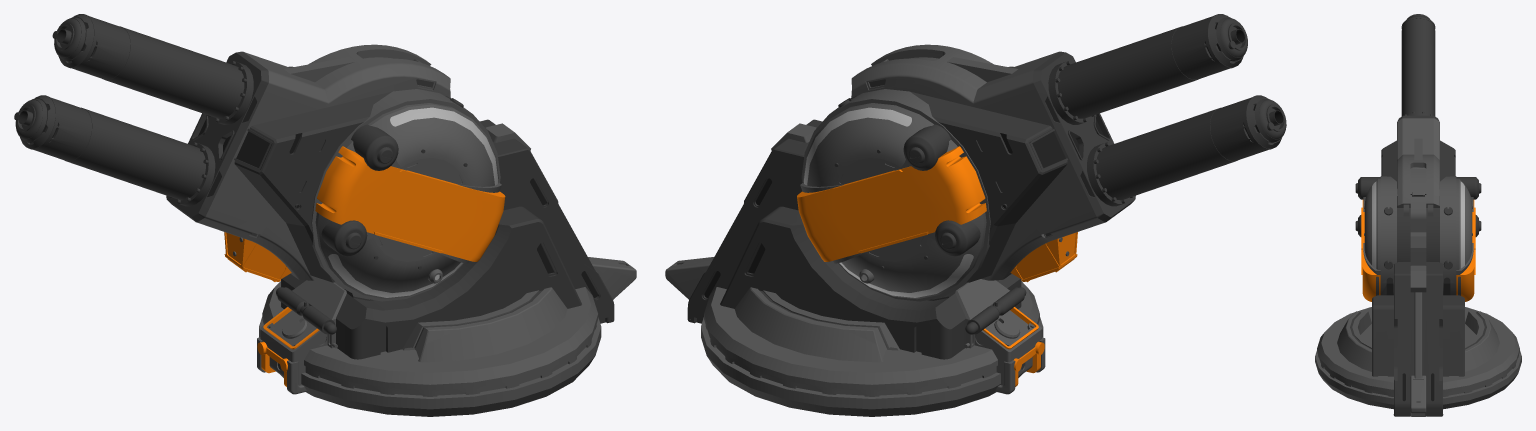
File: launcher.obj
3 views of the same model, side by side, from view 1: azimuth 30°, elevation 25°; view 2: azimuth 150°, elevation 25°; view 3: azimuth 270°, elevation 25° (orthographic). The views are drawn at different scales.
Parts seen in each view (by area): view 1: Mesh25 Group21 Group1 Model, Mesh98 Group59 Group1 Model, Mesh22 Group20 Group1 Model, Mesh11 Group3 Group1 Model, Mesh17 Group12 Group1 Model, Mesh97 Component_1_2 Group59 Group1 Model, Mesh83 Component_1_1 Group59 Group1 Model, Mesh60 Group49 Group1 Model, Mesh23 Group22 Group21 Group1 Model, Mesh42 Group36 Group1 Model, Mesh36 Group31 Group1 Model, Mesh10 Group3 Group1 Model (+5 smaller); view 2: Mesh25 Group21 Group1 Model, Mesh98 Group59 Group1 Model, Mesh63 Group52 Group1 Model, Mesh13 Group3 Group1 Model, Mesh59 Group46 Group1 Model, Mesh97 Component_1_2 Group59 Group1 Model, Mesh83 Component_1_1 Group59 Group1 Model, Mesh37 Group35 Group1 Model, Mesh24 Group23 Group21 Group1 Model, Mesh42 Group36 Group1 Model, Mesh36 Group31 Group1 Model, Mesh10 Group3 Group1 Model (+5 smaller); view 3: Mesh25 Group21 Group1 Model, Mesh42 Group36 Group1 Model, Mesh10 Group3 Group1 Model, Mesh98 Group59 Group1 Model, Mesh83 Component_1_1 Group59 Group1 Model, Mesh22 Group20 Group1 Model, Mesh63 Group52 Group1 Model, Mesh23 Group22 Group21 Group1 Model, Mesh24 Group23 Group21 Group1 Model, Mesh11 Group3 Group1 Model, Mesh13 Group3 Group1 Model, Mesh17 Group12 Group1 Model (+7 smaller).
Boxes of the visible parts, x1,y1,x2,y2 form: Mesh25 Group21 Group1 Model: [259, 281, 601, 416]; Mesh98 Group59 Group1 Model: [166, 44, 450, 280]; Mesh22 Group20 Group1 Model: [336, 206, 581, 359]; Mesh11 Group3 Group1 Model: [315, 103, 498, 299]; Mesh17 Group12 Group1 Model: [315, 146, 505, 261]; Mesh97 Component_1_2 Group59 Group1 Model: [15, 95, 215, 206]; Mesh83 Component_1_1 Group59 Group1 Model: [54, 14, 253, 124]; Mesh60 Group49 Group1 Model: [234, 91, 391, 282]; Mesh23 Group22 Group21 Group1 Model: [402, 287, 567, 362]; Mesh42 Group36 Group1 Model: [344, 119, 614, 323]; Mesh36 Group31 Group1 Model: [257, 279, 346, 394]; Mesh10 Group3 Group1 Model: [311, 89, 500, 301]; Mesh25 Group21 Group1 Model: [701, 281, 1043, 416]; Mesh98 Group59 Group1 Model: [851, 44, 1135, 280]; Mesh63 Group52 Group1 Model: [720, 206, 966, 359]; Mesh13 Group3 Group1 Model: [803, 103, 986, 299]; Mesh59 Group46 Group1 Model: [797, 146, 986, 261]; Mesh97 Component_1_2 Group59 Group1 Model: [1087, 95, 1286, 206]; Mesh83 Component_1_1 Group59 Group1 Model: [1048, 14, 1247, 124]; Mesh37 Group35 Group1 Model: [910, 91, 1067, 282]; Mesh24 Group23 Group21 Group1 Model: [734, 287, 899, 362]; Mesh42 Group36 Group1 Model: [687, 119, 958, 323]; Mesh36 Group31 Group1 Model: [955, 279, 1045, 394]; Mesh10 Group3 Group1 Model: [801, 89, 990, 301]; Mesh25 Group21 Group1 Model: [1315, 307, 1521, 409]; Mesh42 Group36 Group1 Model: [1393, 248, 1443, 416]; Mesh10 Group3 Group1 Model: [1380, 176, 1456, 295]; Mesh98 Group59 Group1 Model: [1397, 115, 1439, 232]; Mesh83 Component_1_1 Group59 Group1 Model: [1401, 14, 1435, 116]; Mesh22 Group20 Group1 Model: [1372, 295, 1393, 376]; Mesh63 Group52 Group1 Model: [1443, 295, 1464, 376]; Mesh23 Group22 Group21 Group1 Model: [1337, 311, 1371, 371]; Mesh24 Group23 Group21 Group1 Model: [1465, 311, 1499, 371]; Mesh11 Group3 Group1 Model: [1364, 178, 1380, 269]; Mesh13 Group3 Group1 Model: [1456, 178, 1472, 269]; Mesh17 Group12 Group1 Model: [1361, 200, 1380, 301].
Bounding box in the file's own units: 22039 × 14293 × 10685.
